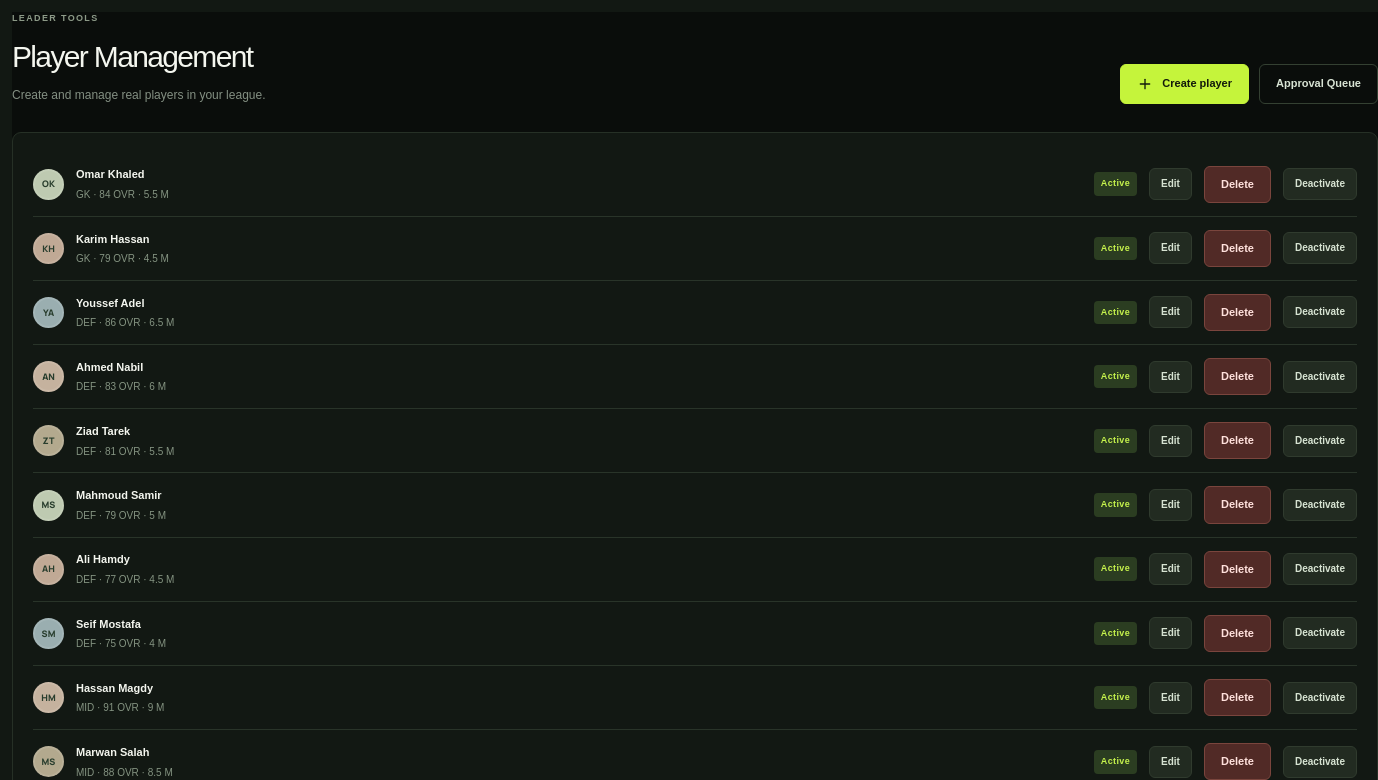
Test: player management form actions › keeps Save changes in the sticky form action bar
The image size is (1378, 780).
Click the button "Edit" in the row of "Omar Khaled". click: click(1170, 184)
box: [1149,168,1192,200]
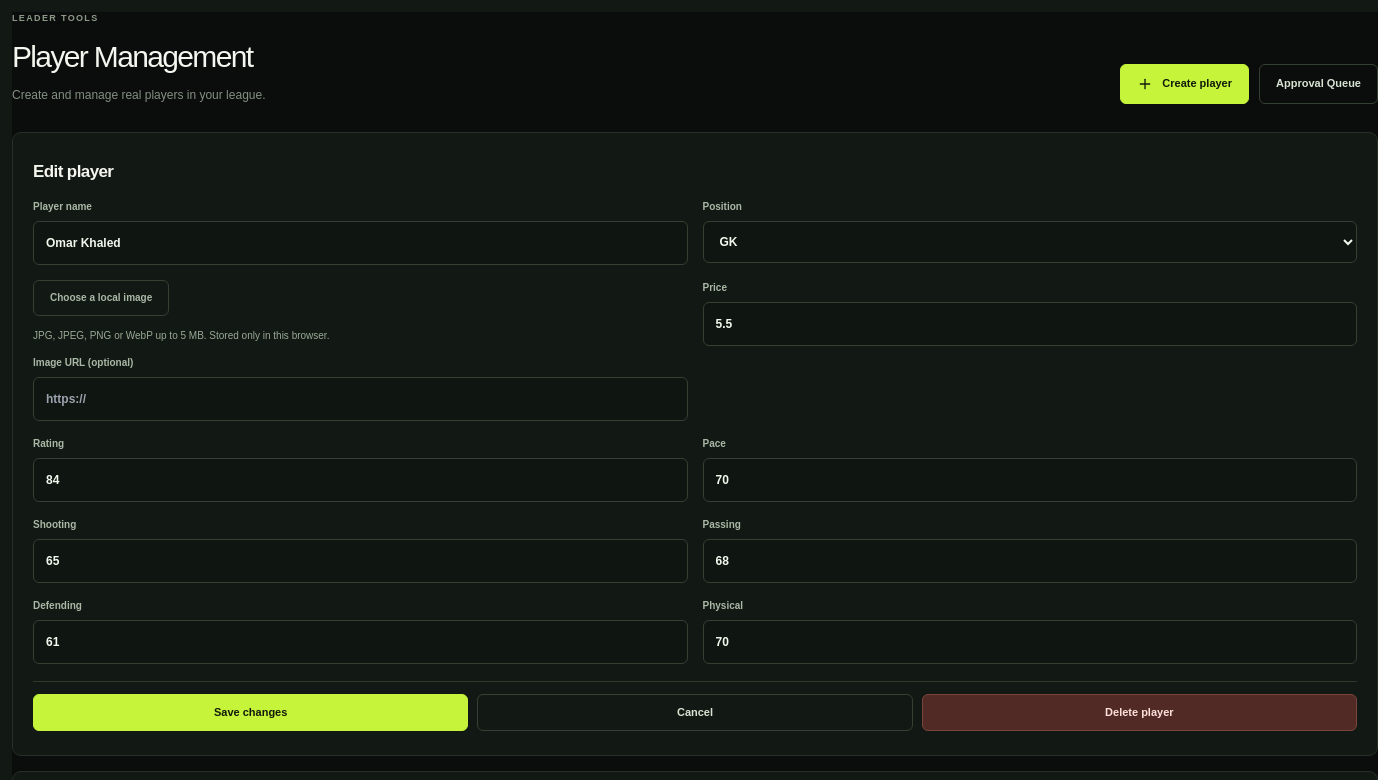
Check: the button "Save changes Cancel Delete player" is shown, box [33,681,1357,735]
